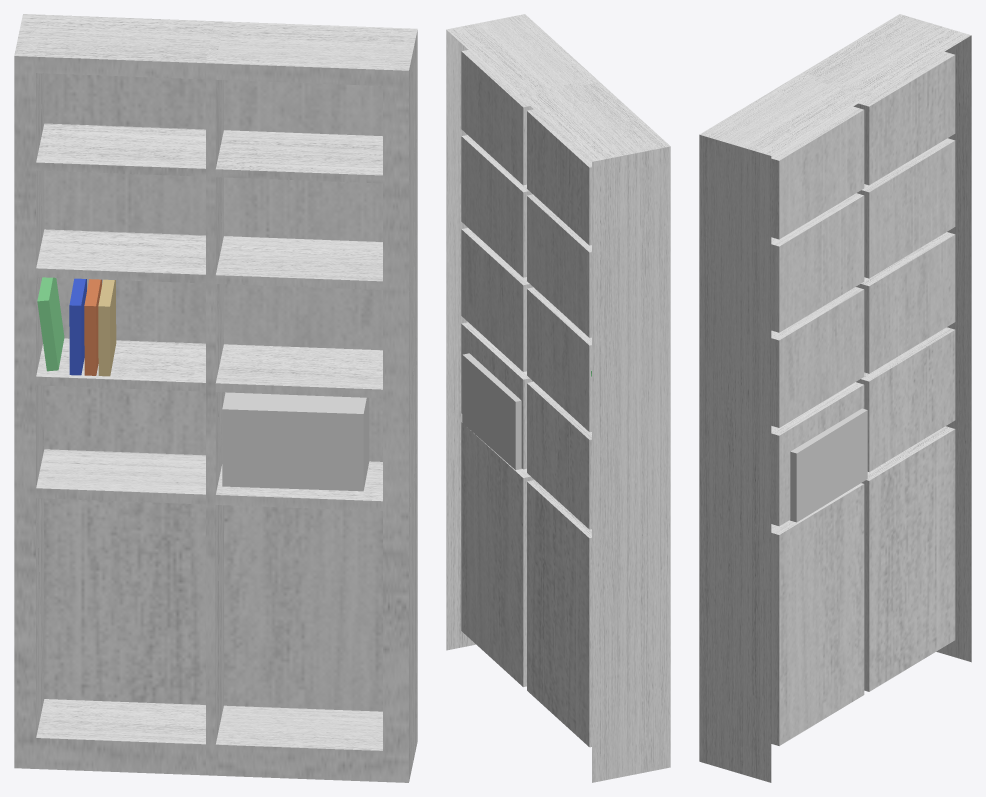
The model's file is Books.glb.
3 views of the same model, side by side, from view 1: azimuth 30°, elevation 25°; view 2: azimuth 150°, elevation 25°; view 3: azimuth 270°, elevation 25° (orthographic). The views are drawn at different scales.
Visible parts, largest first — view 1: Cube.004, Cube.007, Cube.008, Cube.011, Cube.009, Cube.010; view 2: Cube.004, Cube.007; view 3: Cube.004, Cube.007.
Part boxes in pixels (x1,y1,x2,y2): Cube.004: (14,14,417,782); Cube.007: (222,392,369,491); Cube.008: (37,277,64,371); Cube.011: (98,279,116,376); Cube.009: (69,278,86,375); Cube.010: (84,279,101,375); Cube.004: (446,14,670,782); Cube.007: (462,353,521,469); Cube.004: (699,14,971,782); Cube.007: (790,408,867,522).
Size of the model in its own units: 2.7 by 5.55 by 2.19.
Materials: 5 (1 with a texture image).
